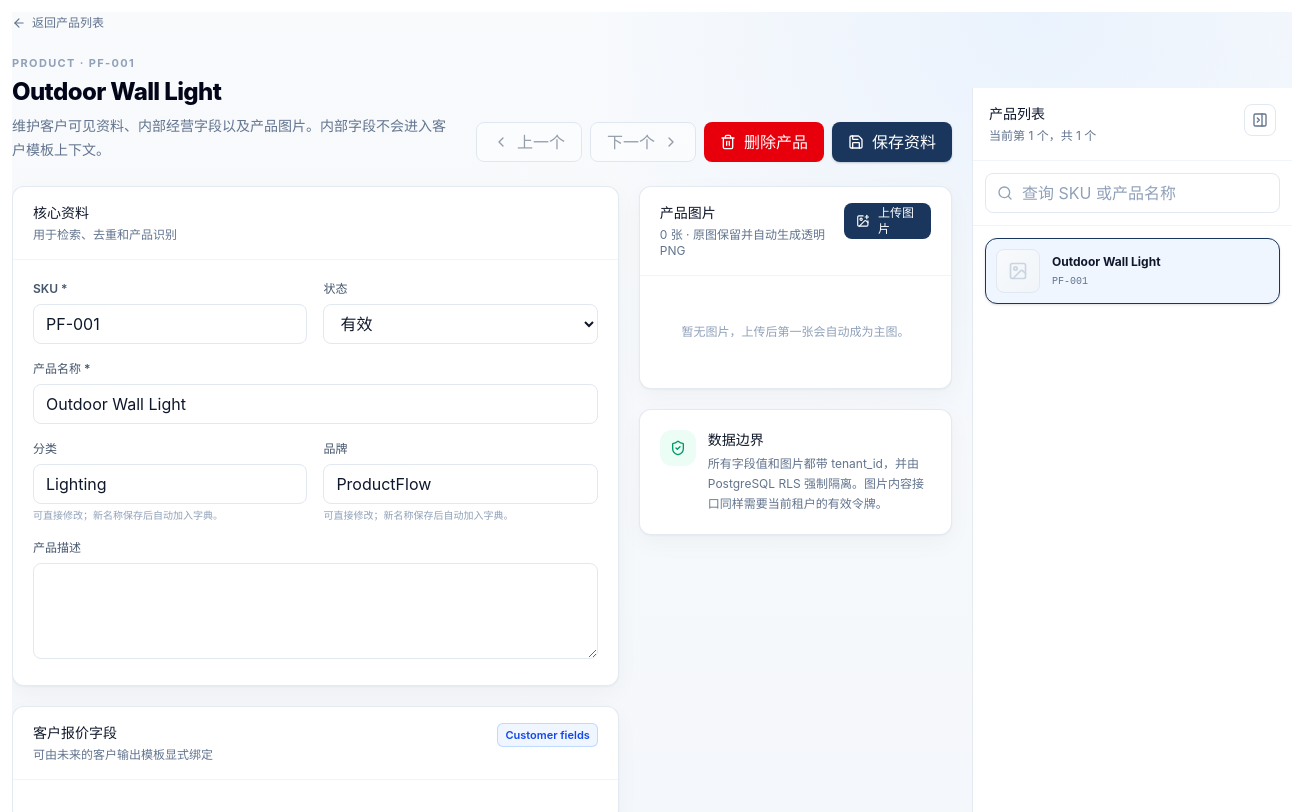
Test case: ProductDetailPage › shows save success as a floating toast without changing the paging toolbar
The width and height of the screenshot is (1292, 812).
Step 1. Click the button "保存资料" → (892, 142), box [832, 122, 952, 162]
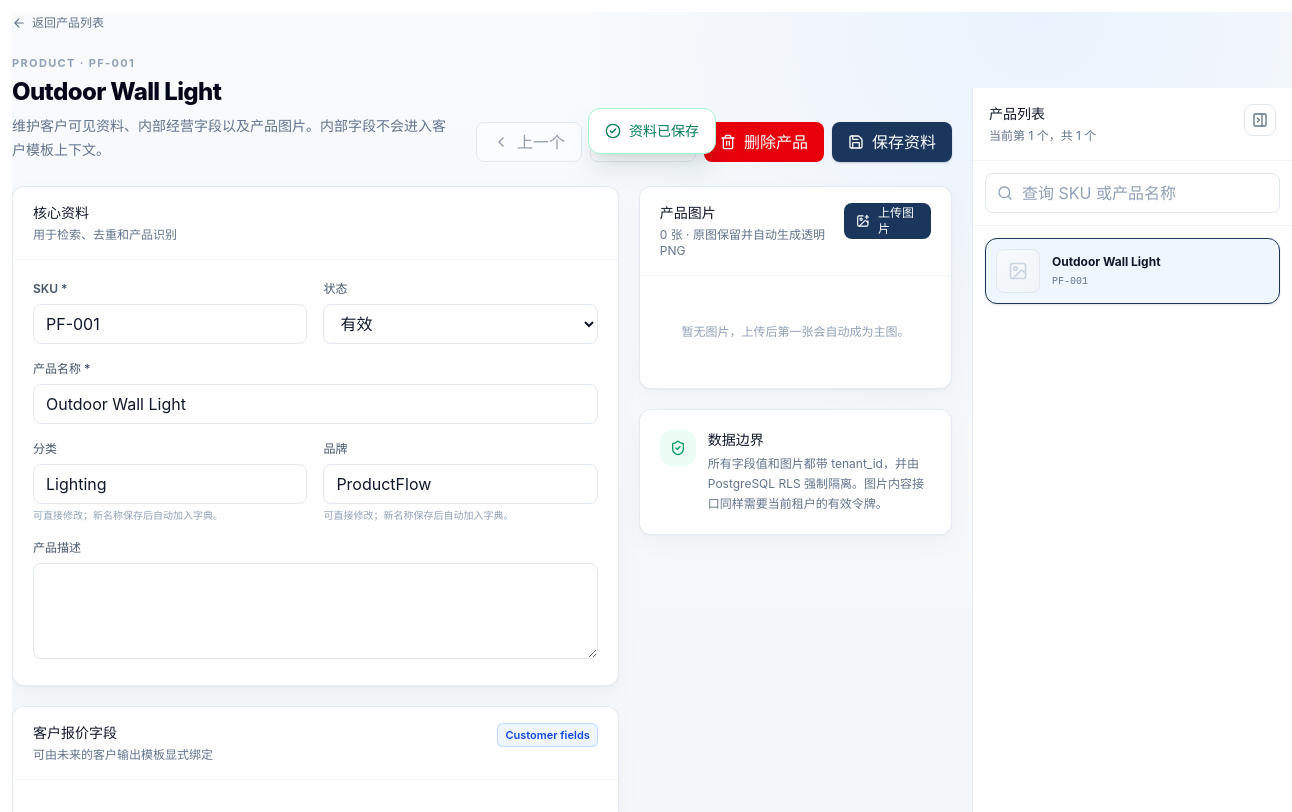
Expected: the buttons read "上一个", "下一个", in this order, [476, 122, 582, 162]; [590, 122, 696, 162]
Now the message reads "资料已保存", box [629, 122, 699, 139]
